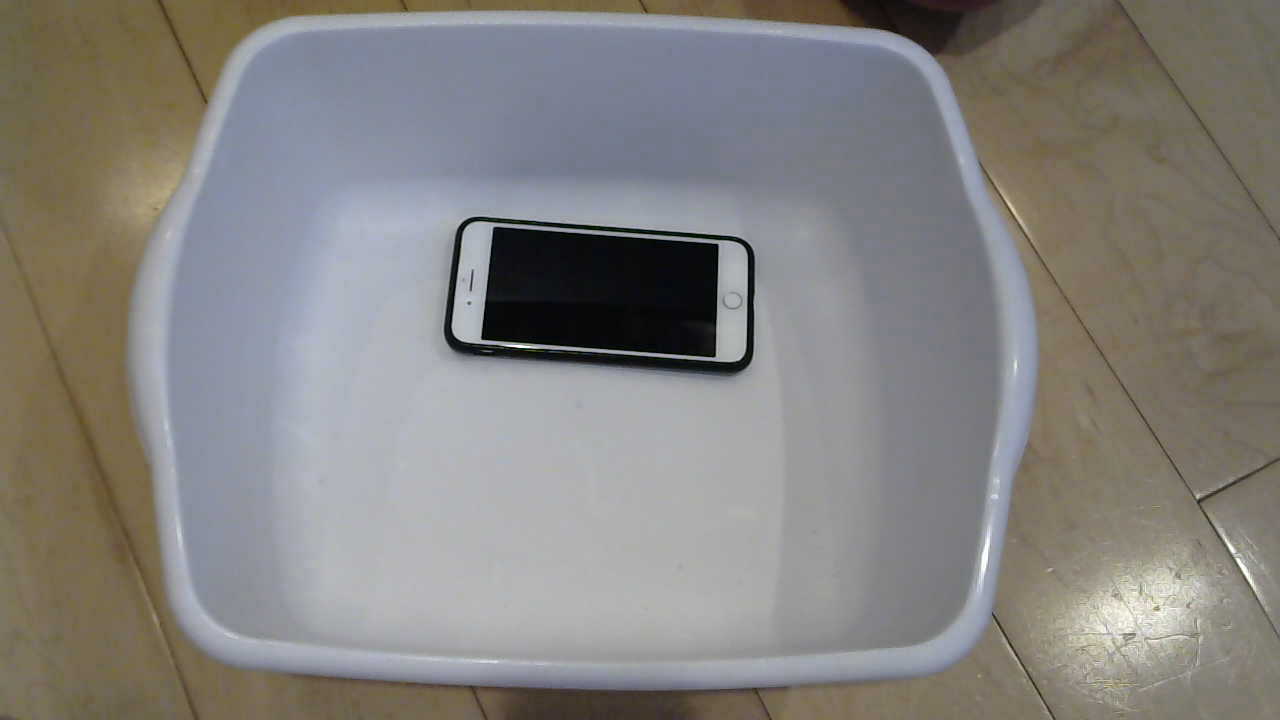phone: (427, 224, 801, 401)
